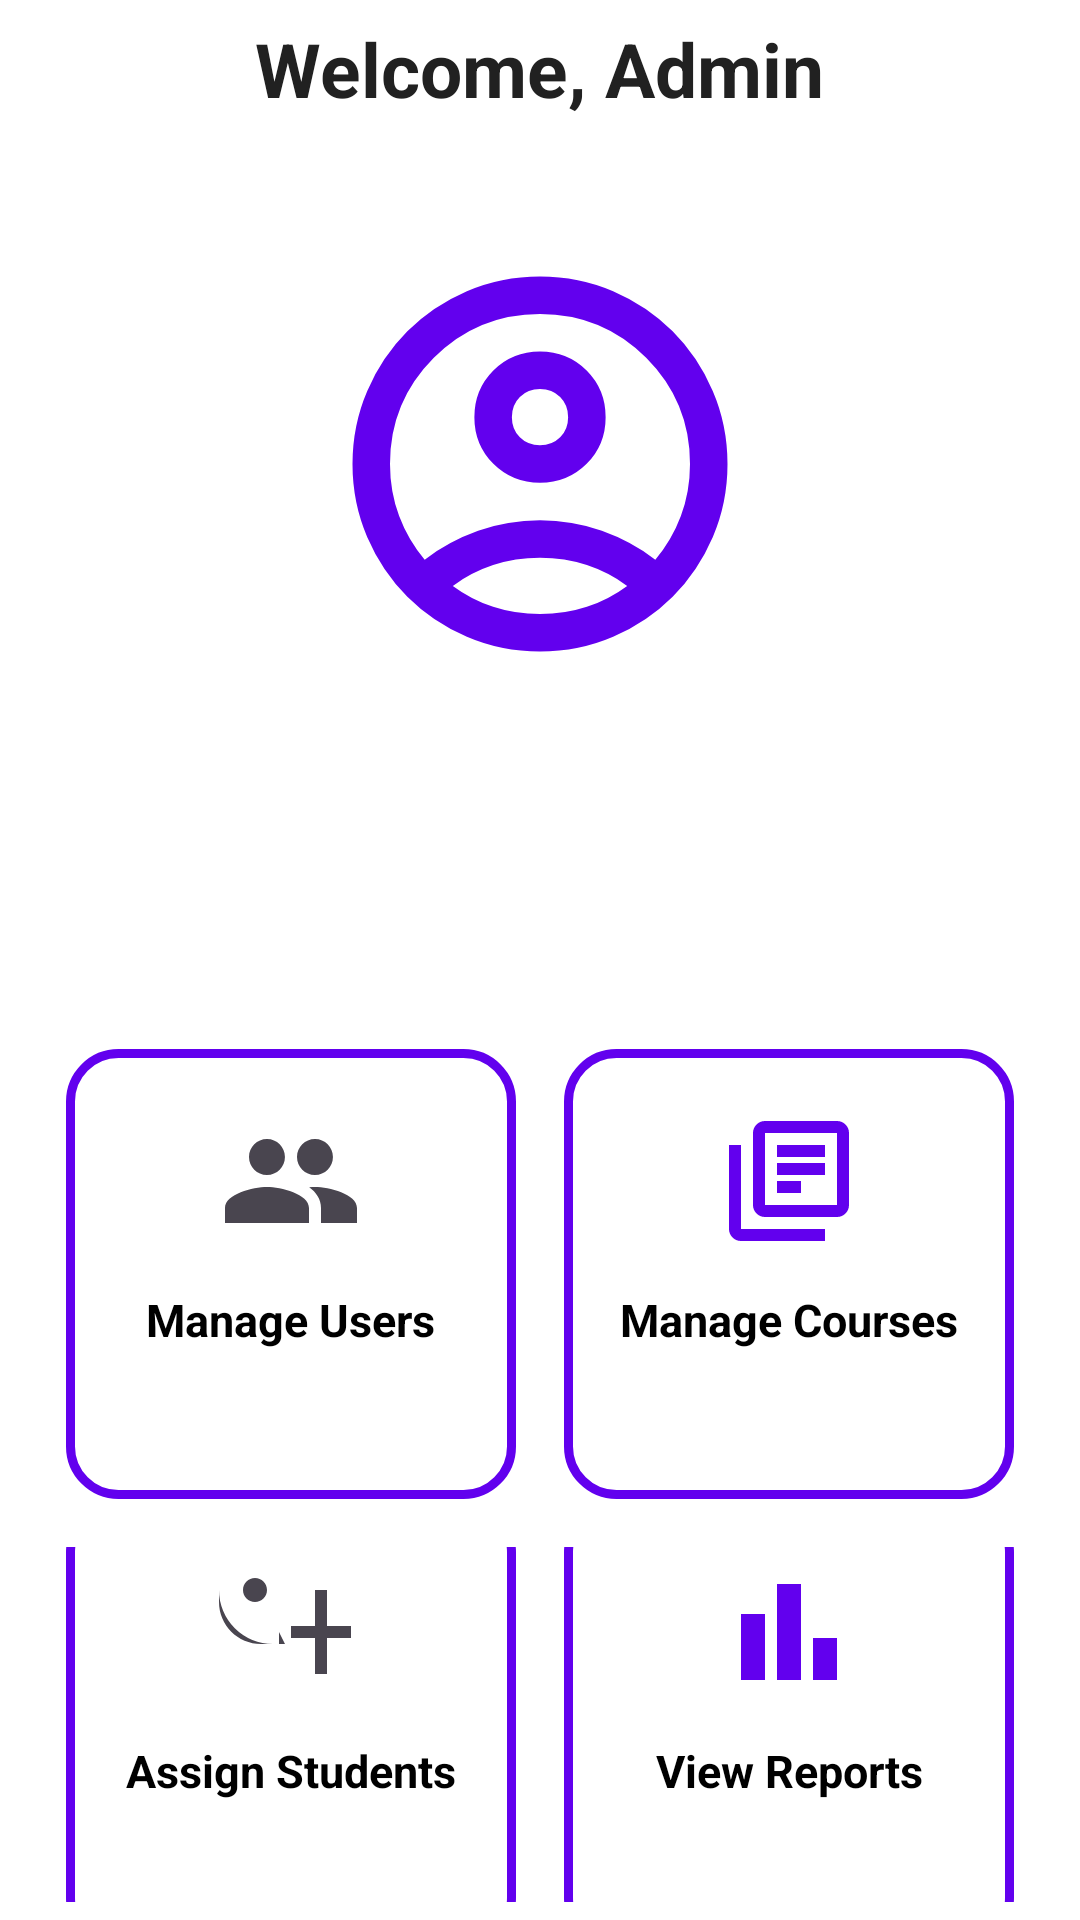

Named icons in this screenshot (1080 x 1920) and their bounding boxes, (x1, y1, x2, y2):
bar chart: (741, 1584, 837, 1680)
library books: (729, 1121, 849, 1241)
people: (225, 1139, 357, 1223)
